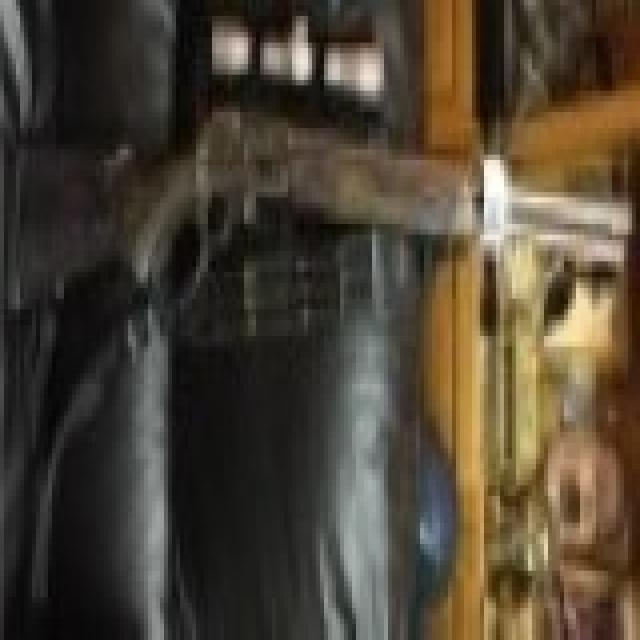Gun: (108, 40, 632, 318)
